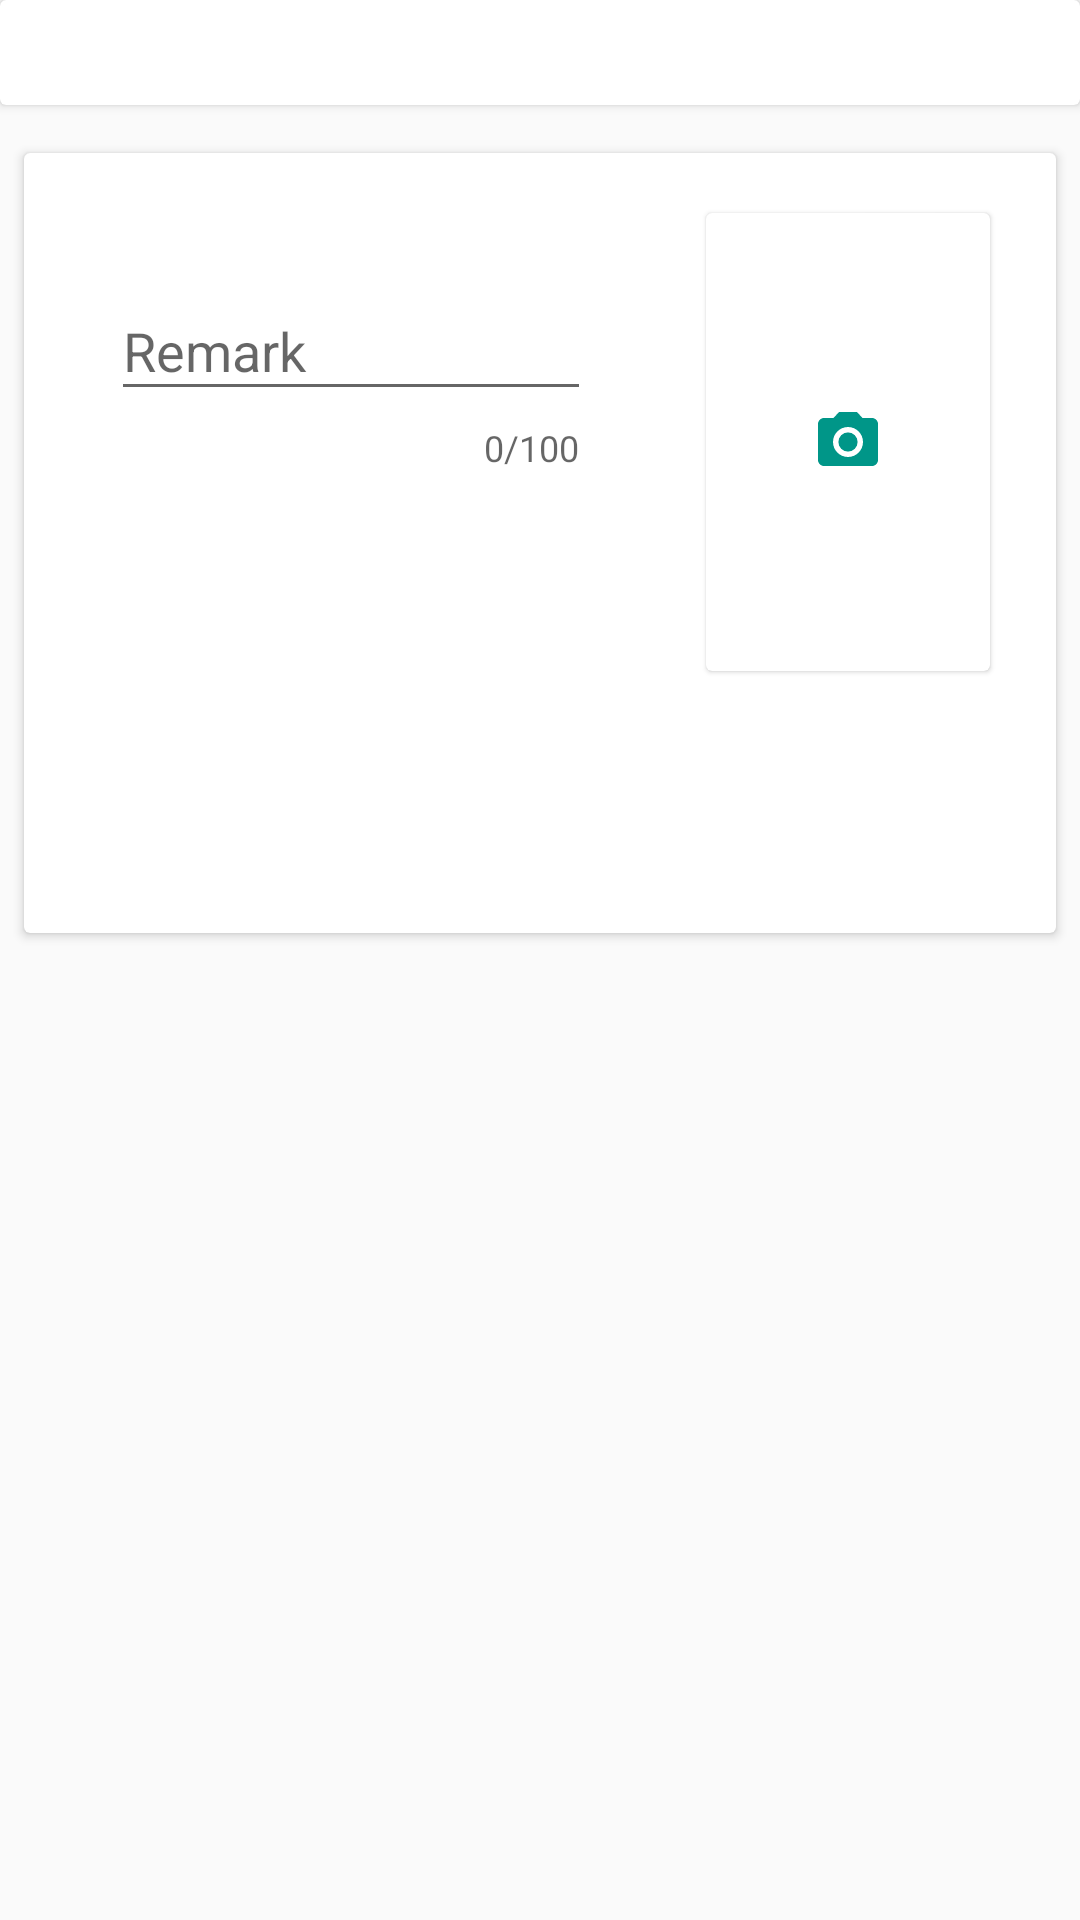

Screen size 1080×1920. Icon name, then its center in pixels as (x,y):
camera: (848,439)
